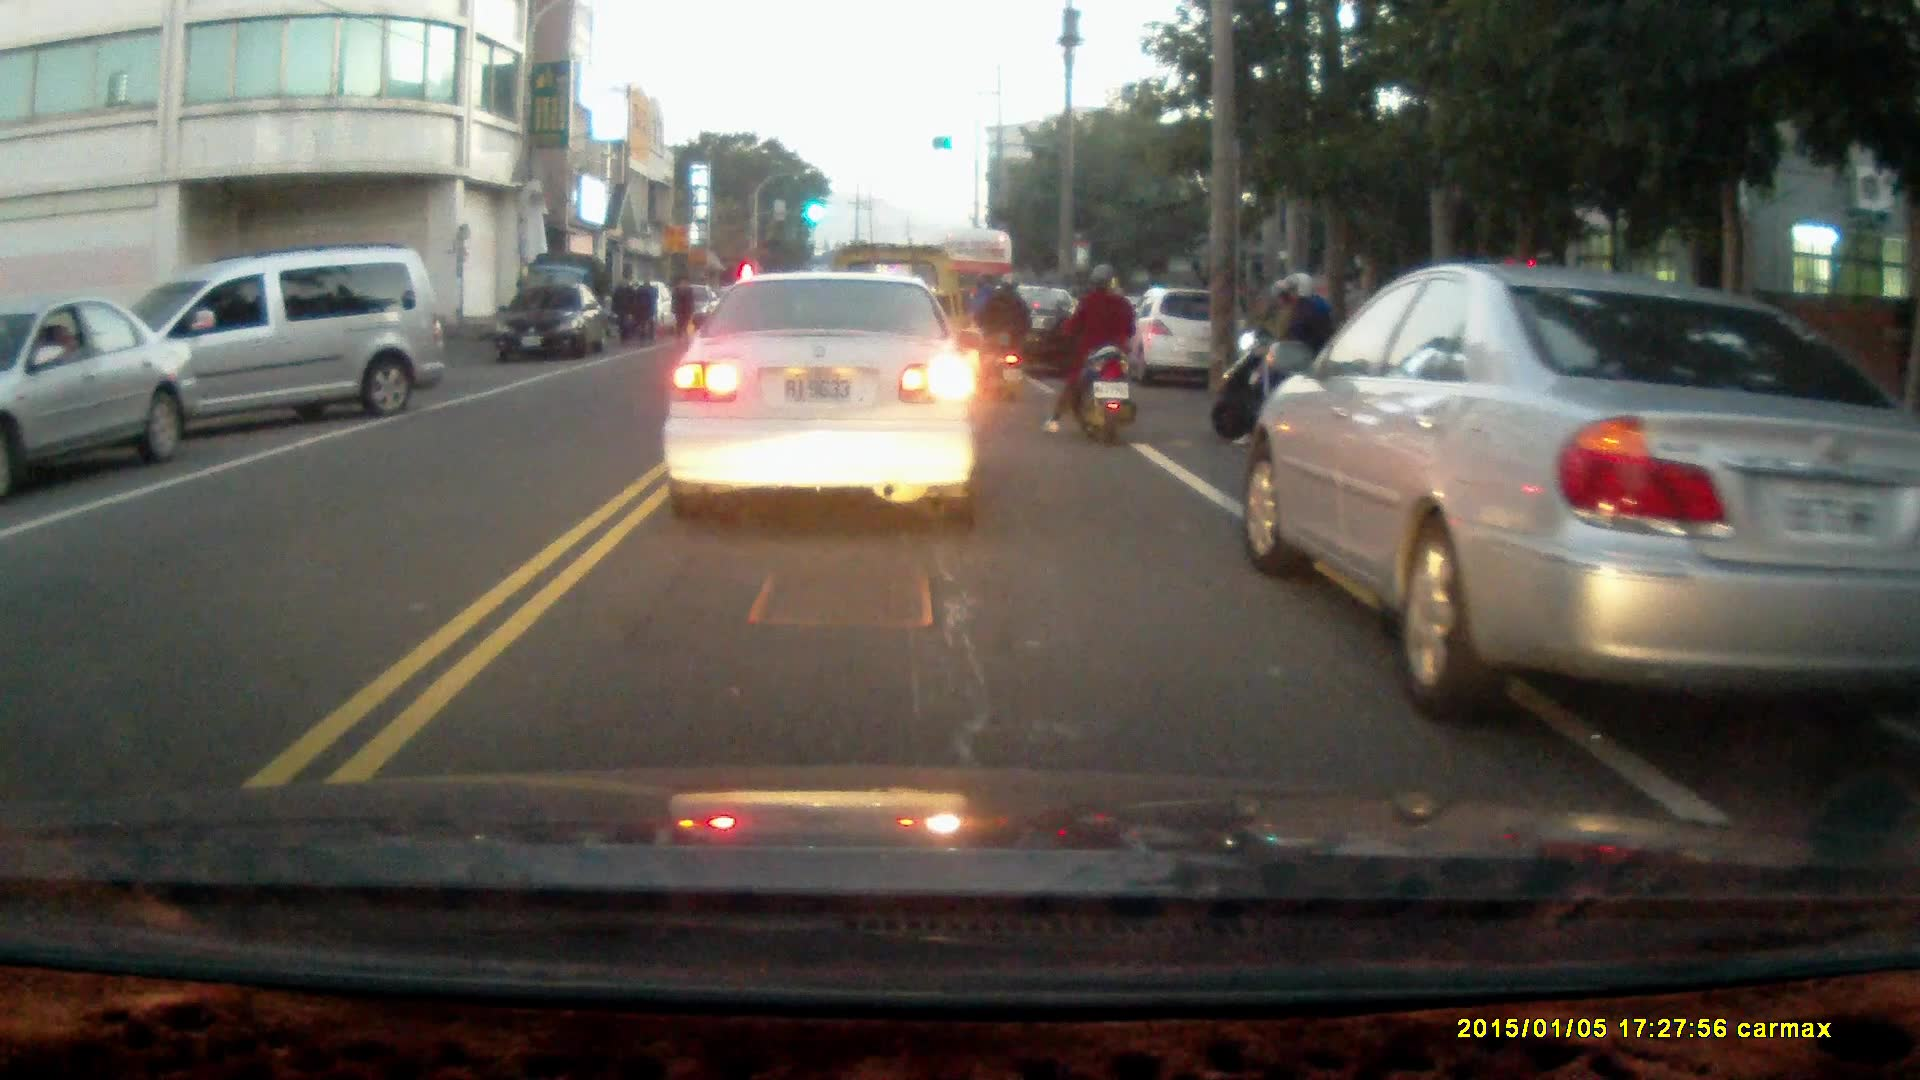pedestrian: (608, 271, 636, 346), (631, 271, 657, 346), (668, 271, 696, 338)
rider: (1211, 267, 1345, 450), (1042, 261, 1137, 443), (962, 268, 1028, 397)
vehicle: (1241, 258, 1920, 721), (666, 271, 986, 530), (86, 249, 442, 448), (1, 297, 203, 496), (968, 284, 1107, 384), (1125, 288, 1237, 392), (498, 280, 612, 362)
